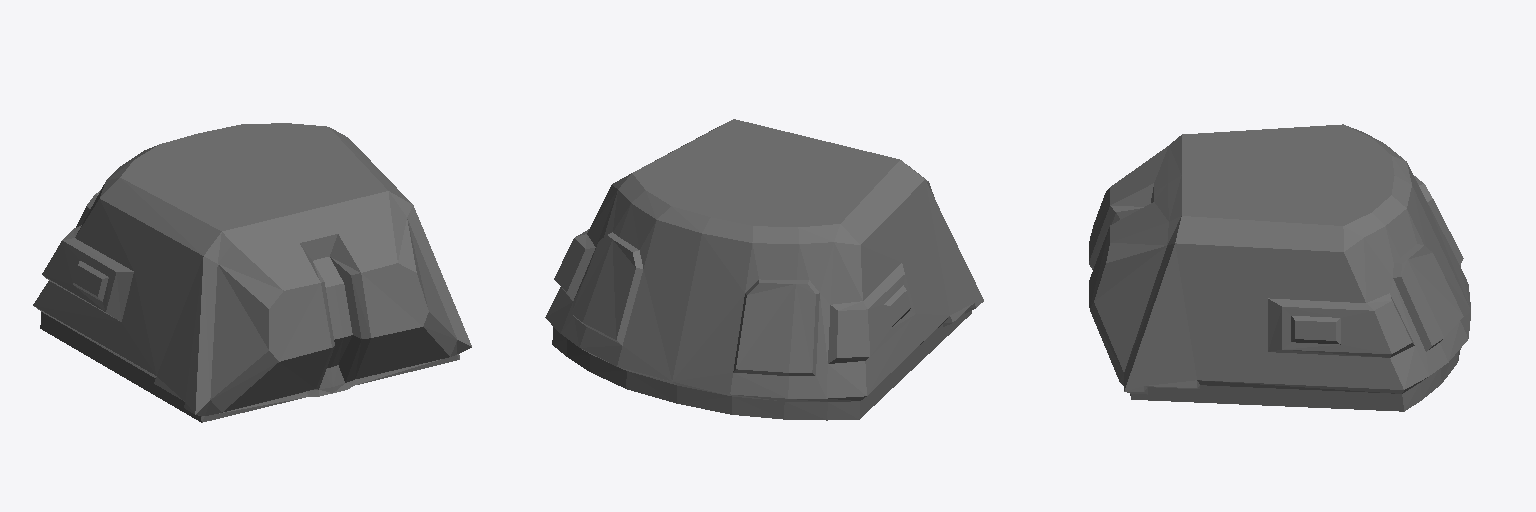
File: cruiser_turret.obj
The picture shows the model from 3 angles: view 1: azimuth 30°, elevation 25°; view 2: azimuth 150°, elevation 25°; view 3: azimuth 270°, elevation 25°; orthographic projection.
Parts seen in each view (by area): view 1: Tai_HeavyCruiserGun; view 2: Tai_HeavyCruiserGun; view 3: Tai_HeavyCruiserGun.
Part boxes in pixels (x1,y1,x2,y2): Tai_HeavyCruiserGun: (33,123,471,422); Tai_HeavyCruiserGun: (545,119,983,420); Tai_HeavyCruiserGun: (1089,124,1470,411).
Size of the model in its own units: 42.89 by 20.56 by 44.17.